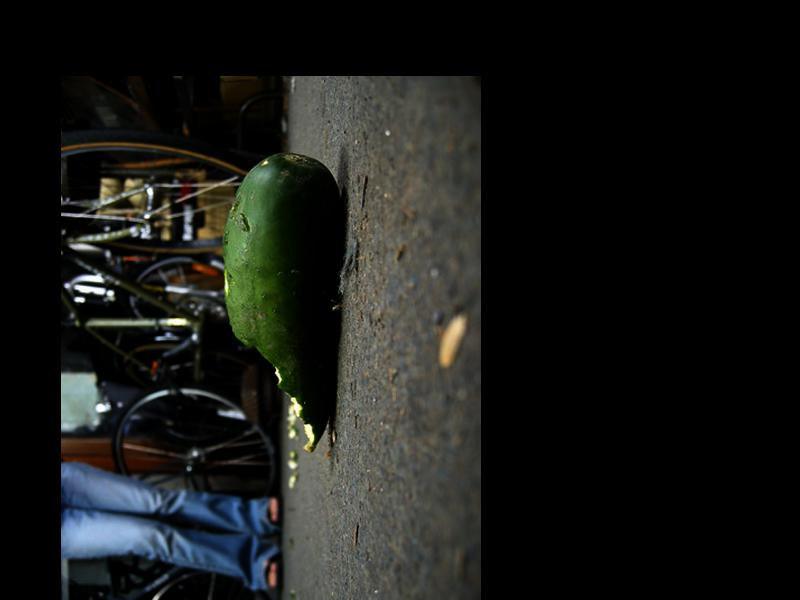Cucumber: (223, 153, 340, 456)
